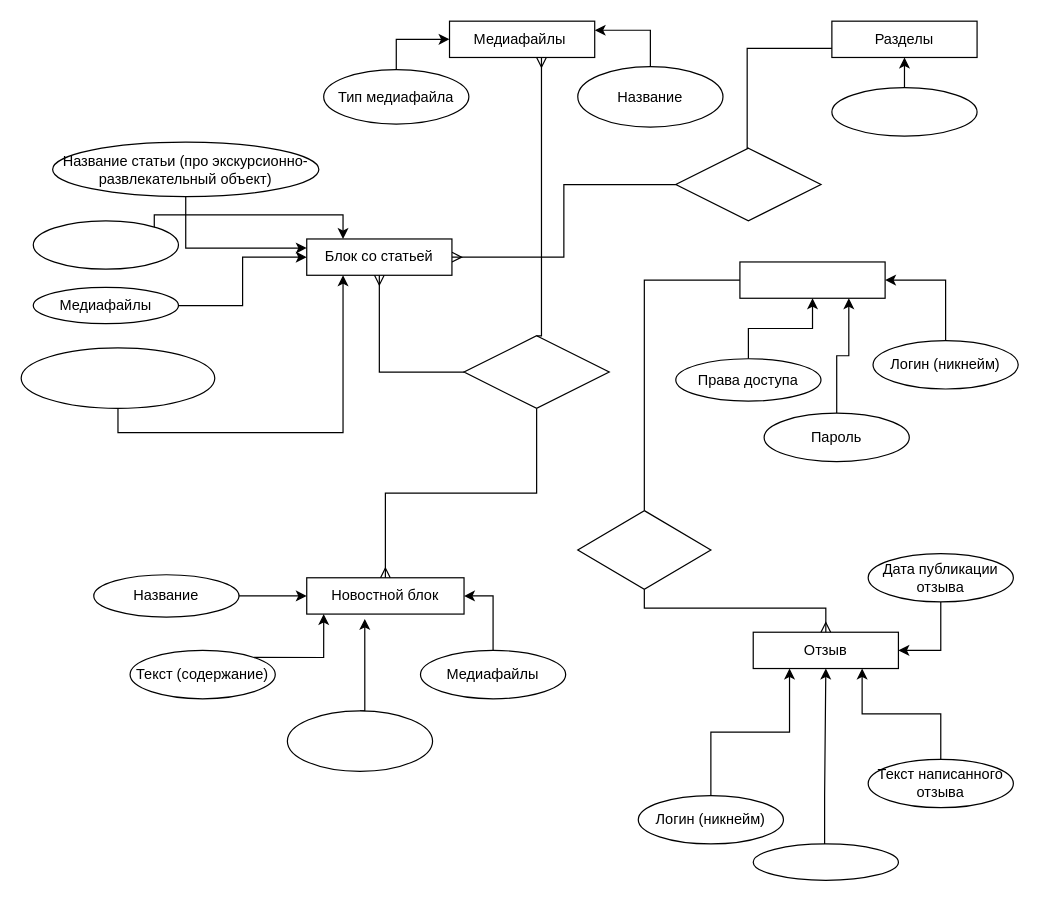
This 1039x901 diagram has some shape labels left out. Here are the shapes that lost their labels. From the top down, the centre of each, then its label:
point (904, 111): Название раздела
point (748, 184): Относится
point (105, 244): Описание объекта
point (812, 279): Пользователи
point (117, 377): Местоположение объекта (карта)
point (536, 371): Добавить
point (644, 549): Оставляет
point (359, 740): Дата публикации
point (825, 861): Оценка
